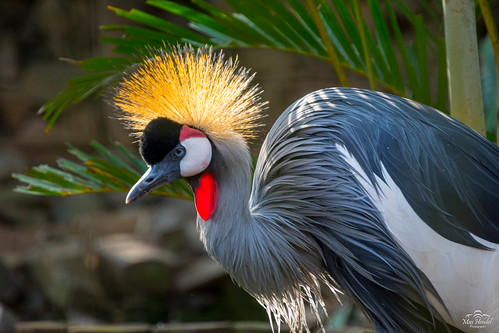animal: (96, 63, 499, 333)
